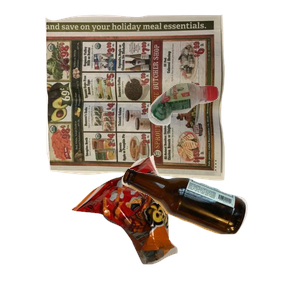glass: (119, 166, 300, 300)
paper: (42, 12, 260, 185)
plastic: (146, 80, 300, 198)
trash: (69, 153, 239, 300)
